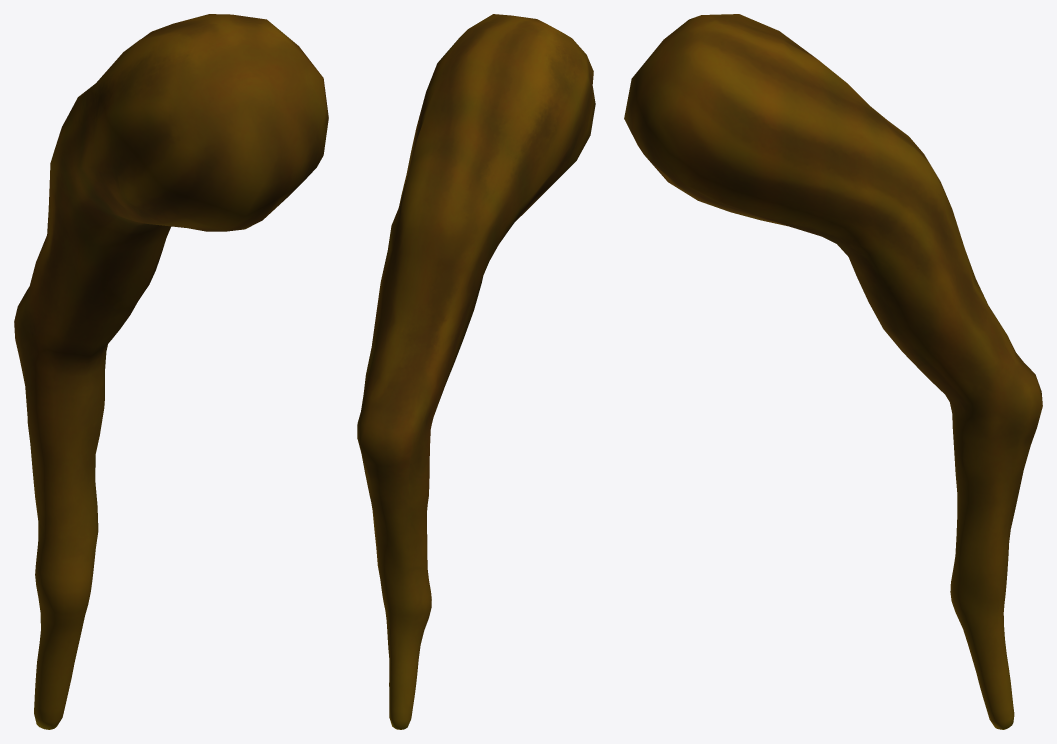
The picture shows the model from 3 angles, left to right: view 1: azimuth 30°, elevation 25°; view 2: azimuth 150°, elevation 25°; view 3: azimuth 270°, elevation 25°; orthographic projection. The views are drawn at different scales.
Parts seen in each view (by area): view 1: SM_Root_10_LOD0; view 2: SM_Root_10_LOD0; view 3: SM_Root_10_LOD0.
Boxes of the visible parts, x1,y1,x2,y2 form: SM_Root_10_LOD0: [14, 14, 328, 729]; SM_Root_10_LOD0: [357, 14, 595, 729]; SM_Root_10_LOD0: [624, 14, 1042, 729].
Size of the model in its own units: 46.54 by 102 by 191.
1 material, 1 textured.
